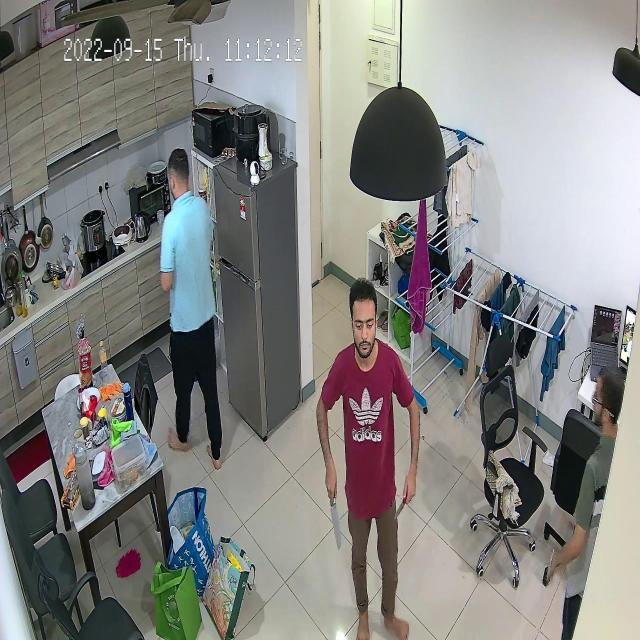Knife: (319, 481, 350, 552)
